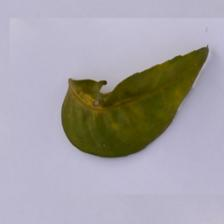greening: (42, 40, 218, 164)
